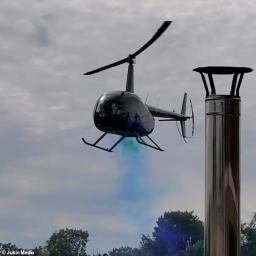helicopter: (75, 14, 200, 162)
